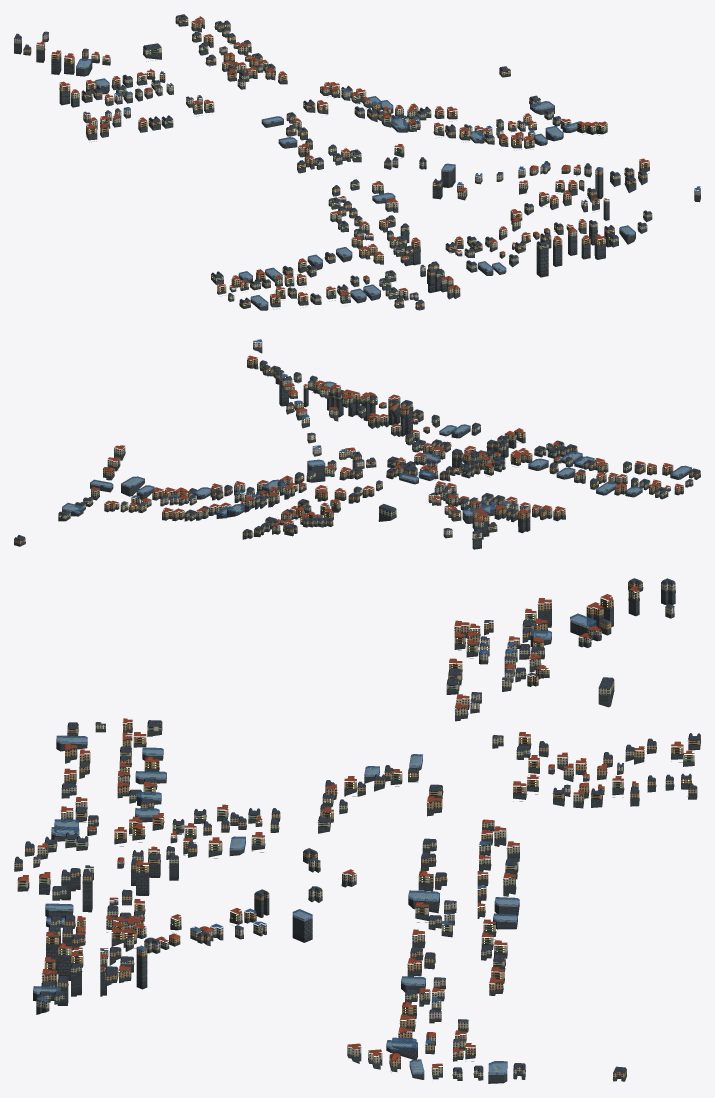
File: osm_buildings_T_W02_S02_Q4.glb
The picture shows the model from 3 angles, top to bottom: view 1: azimuth 30°, elevation 25°; view 2: azimuth 150°, elevation 25°; view 3: azimuth 270°, elevation 25°; orthographic projection. The views are drawn at different scales.
Visible parts, largest first — view 1: OSM_T_W02_S02_Q4_foundation, OSM_T_W02_S02_Q4_wall_french_ochre, OSM_T_W02_S02_Q4_wall_cream_stucco, OSM_T_W02_S02_Q4_roof_terracotta, OSM_T_W02_S02_Q4_roof_mansard_slate, OSM_T_W02_S02_Q4_greenhouse_blend, OSM_T_W02_S02_Q4_roof_mansard_deck, OSM_T_W02_S02_Q4_roof_mint_metal, OSM_T_W02_S02_Q4_balcony_railing, OSM_T_W02_S02_Q4_wall_warm_white, OSM_T_W02_S02_Q4_trim_cornice, OSM_T_W02_S02_Q4_window_emissive_warm; view 2: OSM_T_W02_S02_Q4_foundation, OSM_T_W02_S02_Q4_wall_french_ochre, OSM_T_W02_S02_Q4_wall_cream_stucco, OSM_T_W02_S02_Q4_roof_terracotta, OSM_T_W02_S02_Q4_roof_mansard_slate, OSM_T_W02_S02_Q4_greenhouse_blend, OSM_T_W02_S02_Q4_roof_mansard_deck, OSM_T_W02_S02_Q4_roof_mint_metal, OSM_T_W02_S02_Q4_wall_warm_white, OSM_T_W02_S02_Q4_balcony_railing, OSM_T_W02_S02_Q4_window_emissive_warm, OSM_T_W02_S02_Q4_wall_pastel_sand (+1 smaller); view 3: OSM_T_W02_S02_Q4_foundation, OSM_T_W02_S02_Q4_wall_french_ochre, OSM_T_W02_S02_Q4_wall_cream_stucco, OSM_T_W02_S02_Q4_roof_terracotta, OSM_T_W02_S02_Q4_roof_mansard_slate, OSM_T_W02_S02_Q4_greenhouse_blend, OSM_T_W02_S02_Q4_roof_mansard_deck, OSM_T_W02_S02_Q4_trim_cornice, OSM_T_W02_S02_Q4_roof_mint_metal, OSM_T_W02_S02_Q4_wall_warm_white, OSM_T_W02_S02_Q4_balcony_railing, OSM_T_W02_S02_Q4_window_emissive_warm.
Boxes of the visible parts, bbox=[...] form: OSM_T_W02_S02_Q4_foundation: bbox=[14, 20, 700, 310]; OSM_T_W02_S02_Q4_wall_french_ochre: bbox=[23, 17, 649, 307]; OSM_T_W02_S02_Q4_wall_cream_stucco: bbox=[36, 19, 652, 302]; OSM_T_W02_S02_Q4_roof_terracotta: bbox=[36, 16, 649, 298]; OSM_T_W02_S02_Q4_roof_mansard_slate: bbox=[14, 15, 651, 304]; OSM_T_W02_S02_Q4_greenhouse_blend: bbox=[76, 58, 635, 306]; OSM_T_W02_S02_Q4_roof_mansard_deck: bbox=[15, 14, 650, 305]; OSM_T_W02_S02_Q4_roof_mint_metal: bbox=[16, 22, 650, 308]; OSM_T_W02_S02_Q4_balcony_railing: bbox=[44, 19, 648, 310]; OSM_T_W02_S02_Q4_wall_warm_white: bbox=[14, 37, 591, 297]; OSM_T_W02_S02_Q4_trim_cornice: bbox=[15, 17, 699, 309]; OSM_T_W02_S02_Q4_window_emissive_warm: bbox=[68, 25, 644, 305]; OSM_T_W02_S02_Q4_foundation: bbox=[14, 347, 700, 549]; OSM_T_W02_S02_Q4_wall_french_ochre: bbox=[14, 358, 700, 544]; OSM_T_W02_S02_Q4_wall_cream_stucco: bbox=[58, 372, 693, 531]; OSM_T_W02_S02_Q4_roof_terracotta: bbox=[64, 355, 683, 526]; OSM_T_W02_S02_Q4_roof_mansard_slate: bbox=[14, 361, 700, 540]; OSM_T_W02_S02_Q4_greenhouse_blend: bbox=[62, 381, 691, 516]; OSM_T_W02_S02_Q4_roof_mansard_deck: bbox=[15, 360, 698, 538]; OSM_T_W02_S02_Q4_roof_mint_metal: bbox=[14, 365, 696, 544]; OSM_T_W02_S02_Q4_wall_warm_white: bbox=[141, 379, 670, 538]; OSM_T_W02_S02_Q4_balcony_railing: bbox=[59, 358, 681, 537]; OSM_T_W02_S02_Q4_window_emissive_warm: bbox=[63, 346, 685, 534]; OSM_T_W02_S02_Q4_wall_pastel_sand: bbox=[169, 342, 527, 535]; OSM_T_W02_S02_Q4_foundation: bbox=[14, 587, 700, 1083]; OSM_T_W02_S02_Q4_wall_french_ochre: bbox=[14, 582, 700, 1077]; OSM_T_W02_S02_Q4_wall_cream_stucco: bbox=[17, 589, 694, 1077]; OSM_T_W02_S02_Q4_roof_terracotta: bbox=[17, 586, 694, 1068]; OSM_T_W02_S02_Q4_roof_mansard_slate: bbox=[14, 580, 700, 1073]; OSM_T_W02_S02_Q4_greenhouse_blend: bbox=[33, 613, 596, 1074]; OSM_T_W02_S02_Q4_roof_mansard_deck: bbox=[15, 578, 699, 1074]; OSM_T_W02_S02_Q4_trim_cornice: bbox=[14, 583, 699, 1073]; OSM_T_W02_S02_Q4_roof_mint_metal: bbox=[14, 587, 699, 1079]; OSM_T_W02_S02_Q4_wall_warm_white: bbox=[33, 583, 675, 1041]; OSM_T_W02_S02_Q4_balcony_railing: bbox=[14, 592, 692, 1079]; OSM_T_W02_S02_Q4_window_emissive_warm: bbox=[28, 597, 689, 1070].
Bounding box in the file's own units: 999 × 291 × 918.
16 materials, 16 textured.
